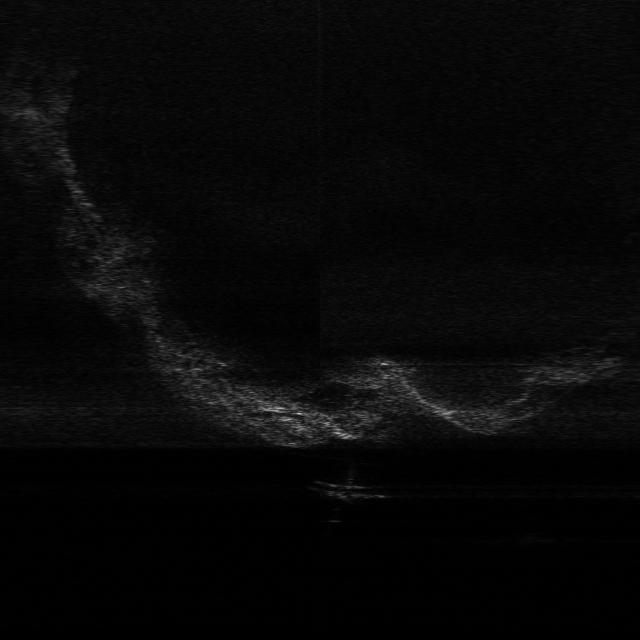plane: (296, 477, 456, 521)
